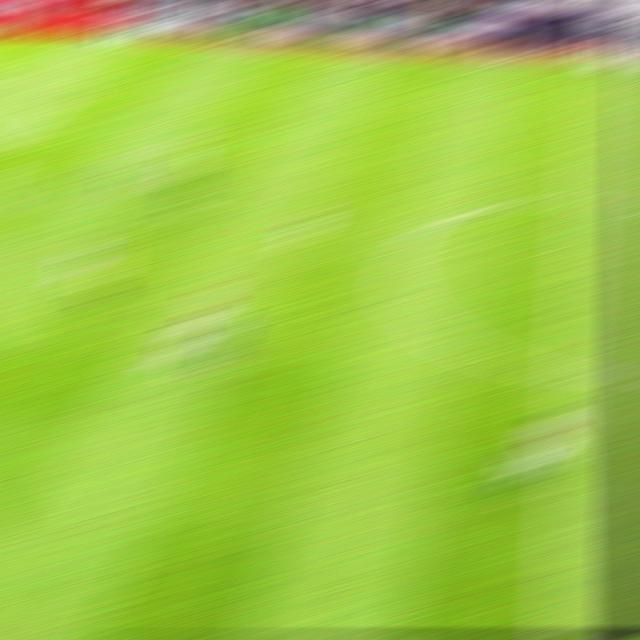bigarea_top_inner: (49, 84, 91, 107)
halfcircle_bottom: (545, 355, 594, 391)
halfcircle_top: (558, 191, 604, 217)
midline_top_intersection: (572, 59, 610, 74)
